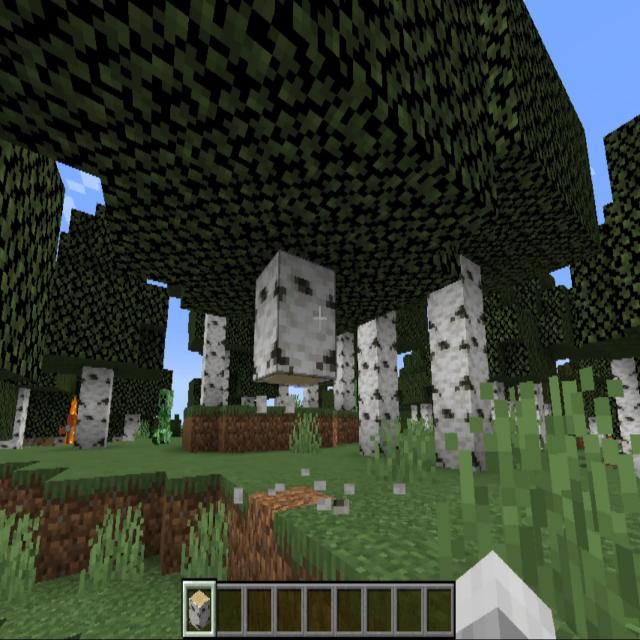Creeper: (155, 385, 175, 446), (351, 378, 359, 414)
Zombie: (58, 408, 79, 449)
